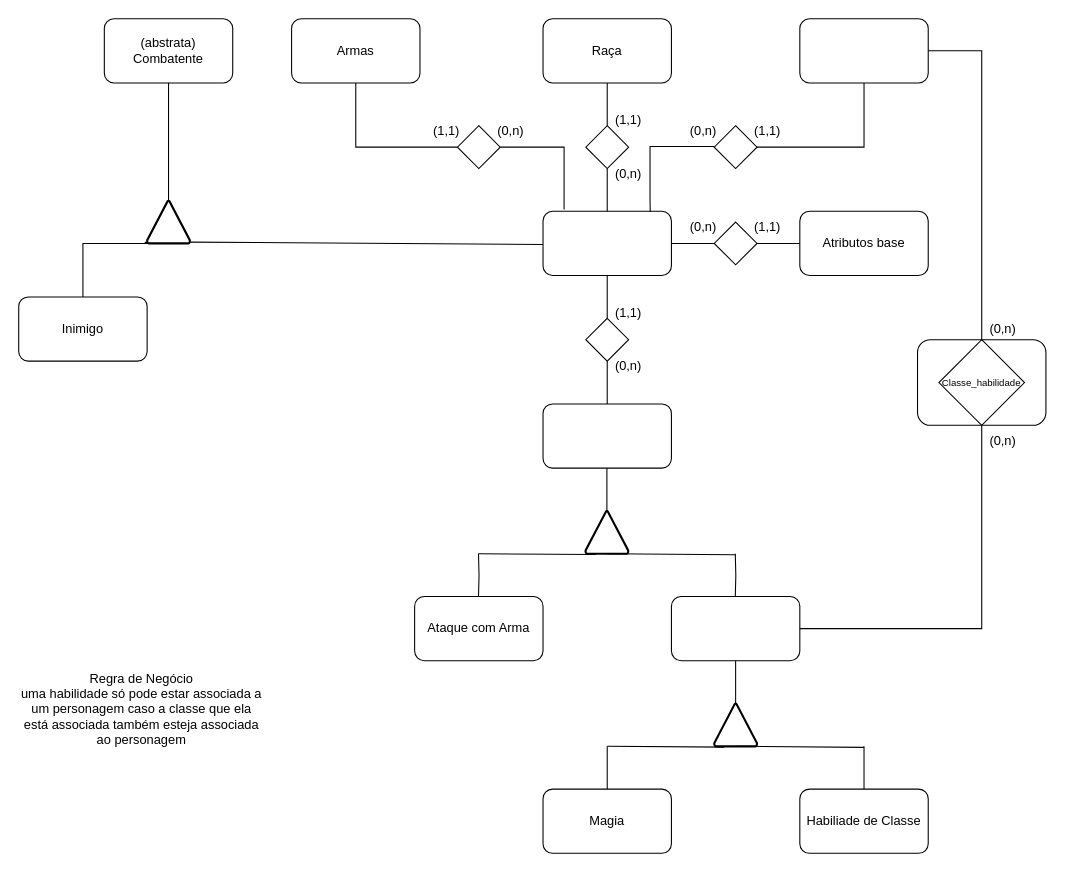
This 1065x872 diagram has some shape labels left out. Here are the shapes that lost their labels. From the top down, the centre of each, then its label:
(x=863, y=50): Classe
(x=606, y=243): Personagem
(x=606, y=435): Ação
(x=735, y=628): Habiliade
